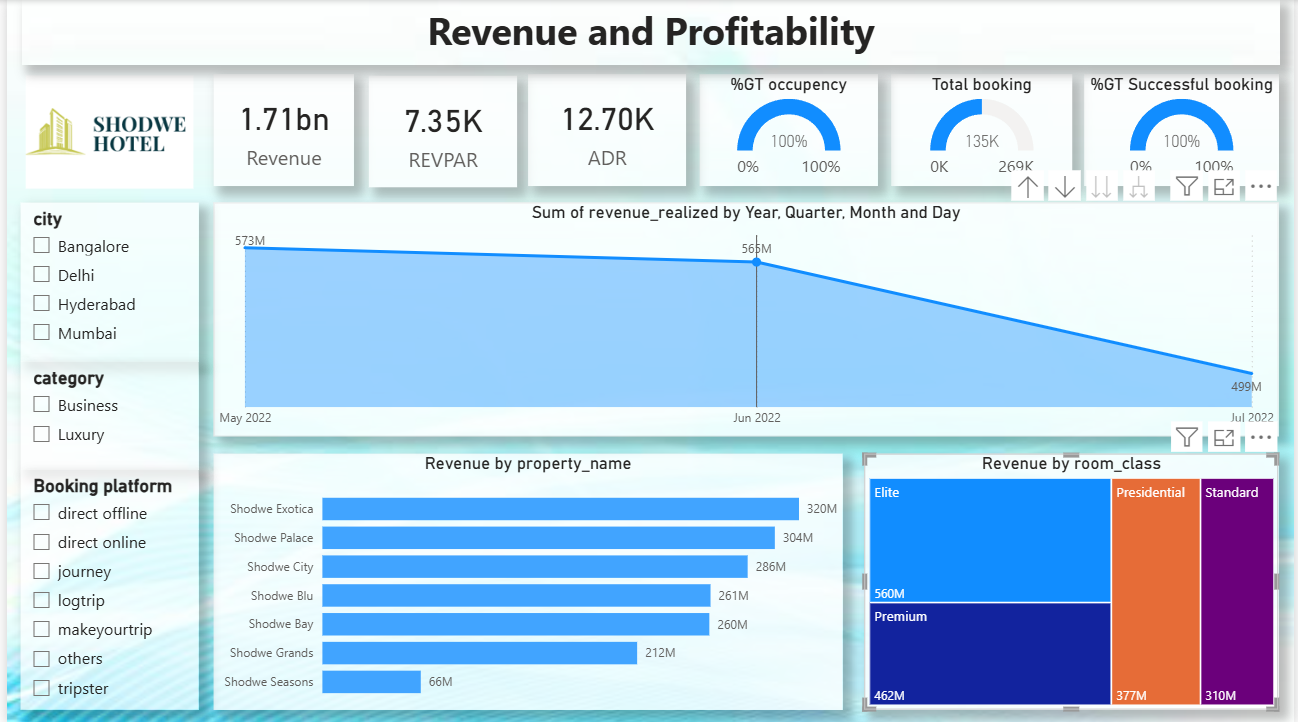

This screenshot's page, from the dashboard's own definition file:
{"tool":"powerbi","page":{"name":"Page 1","canvas":[1280,720],"ordinal":0},"visuals":[{"type":"card","fields":{"Values":["fact_booking.revenue"]},"box":[205.3,73.8,139.6,111.4],"z":0},{"type":"gauge","fields":{"Y":["fact_booking.total booking"]},"box":[878.9,73.8,179.8,111.4],"z":1000},{"type":"gauge","fields":{"Y":["fact_booking.occupency%"]},"box":[688.4,73.8,177.1,111.4],"z":2000},{"type":"treemap","fields":{"Group":["dim_rooms.room_class"],"Values":["fact_booking.revenue"]},"box":[852.1,450.9,411.9,254.9],"z":3000},{"type":"barChart","fields":{"Category":["dim_hotels.property_name"],"Y":["fact_booking.revenue"]},"box":[205.3,450.9,625.3,254.9],"z":4000},{"type":"card","fields":{"Values":["fact_booking.REVPAR"]},"box":[359.6,75.1,147.6,111.4],"z":5000},{"type":"card","fields":{"Values":["fact_booking.ADR"]},"box":[517.9,73.8,157,111.4],"z":6000},{"type":"gauge","fields":{"Y":["fact_booking.Successful booking"]},"box":[1070.8,73.8,193.2,111.4],"z":7000},{"type":"areaChart","fields":{"Category":["dim_date.mmm yy.Variation.Date Hierarchy.Year","dim_date.mmm yy.Variation.Date Hierarchy.Quarter","dim_date.mmm yy.Variation.Date Hierarchy.Month","dim_date.mmm yy.Variation.Date Hierarchy.Day"],"Y":["Sum(fact_booking.revenue_realized)"]},"box":[205.3,201.3,1058.7,232.1],"z":8000},{"type":"slicer","fields":{"Values":["dim_hotels.city"]},"box":[13.4,201.3,177.1,158.3],"z":9000},{"type":"slicer","fields":{"Values":["dim_hotels.category"]},"box":[13.4,359.6,177.1,107.3],"z":10000},{"type":"slicer","fields":{"Values":["fact_booking.booking_platform"]},"box":[13.6,467.2,177.1,238.4],"z":11000},{"type":"image","box":[13.4,56.4,177.1,150.3],"z":12000},{"type":"textbox","box":[14.8,0,1250.6,64.4],"z":13000}]}

Visuals, with their boxes in screenshot pixels (x1, y1, x2, y2), scaled from the page's 1280x720 canvas onto the 1298x722 screenshot:
card - fact_booking.revenue: 208,74,350,186
gauge - fact_booking.total booking: 891,74,1074,186
gauge - fact_booking.occupency%: 698,74,878,186
treemap - dim_rooms.room_class x fact_booking.revenue: 864,452,1282,708
barChart - dim_hotels.property_name x fact_booking.revenue: 208,452,842,708
card - fact_booking.REVPAR: 365,75,514,187
card - fact_booking.ADR: 525,74,684,186
gauge - fact_booking.Successful booking: 1086,74,1282,186
areaChart - dim_date.mmm yy.Variation.Date Hierarchy.Year x dim_date.mmm yy.Variation.Date Hierarchy.Quarter: 208,202,1282,435
slicer - dim_hotels.city: 14,202,193,361
slicer - dim_hotels.category: 14,361,193,468
slicer - fact_booking.booking_platform: 14,468,193,708
image: 14,57,193,207
textbox: 15,0,1283,65
